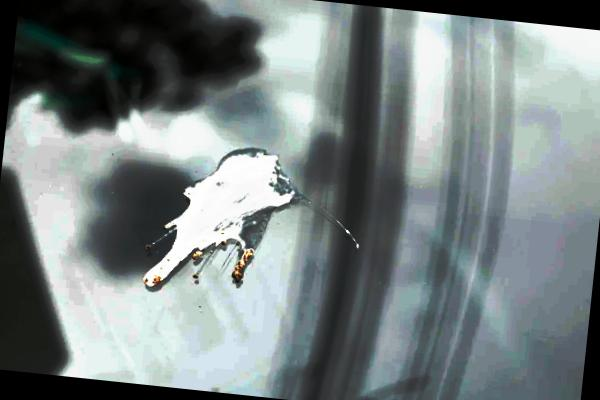Bird Poop: (145, 149, 296, 286)
